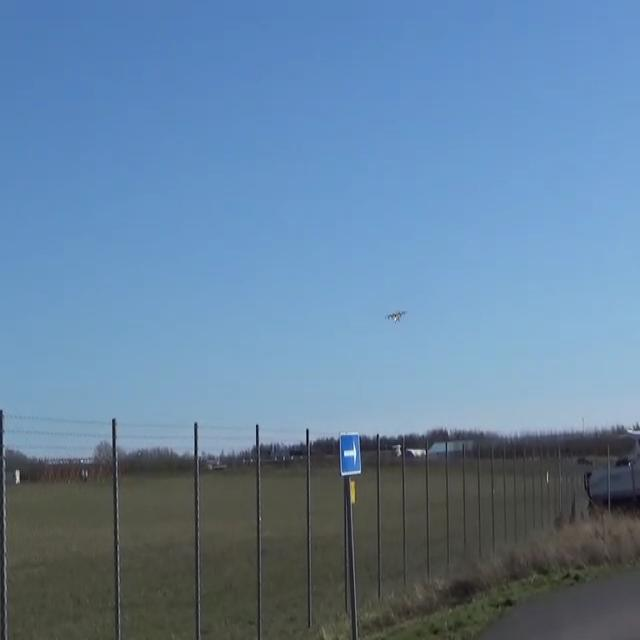AirPlane: (377, 302, 418, 332)
